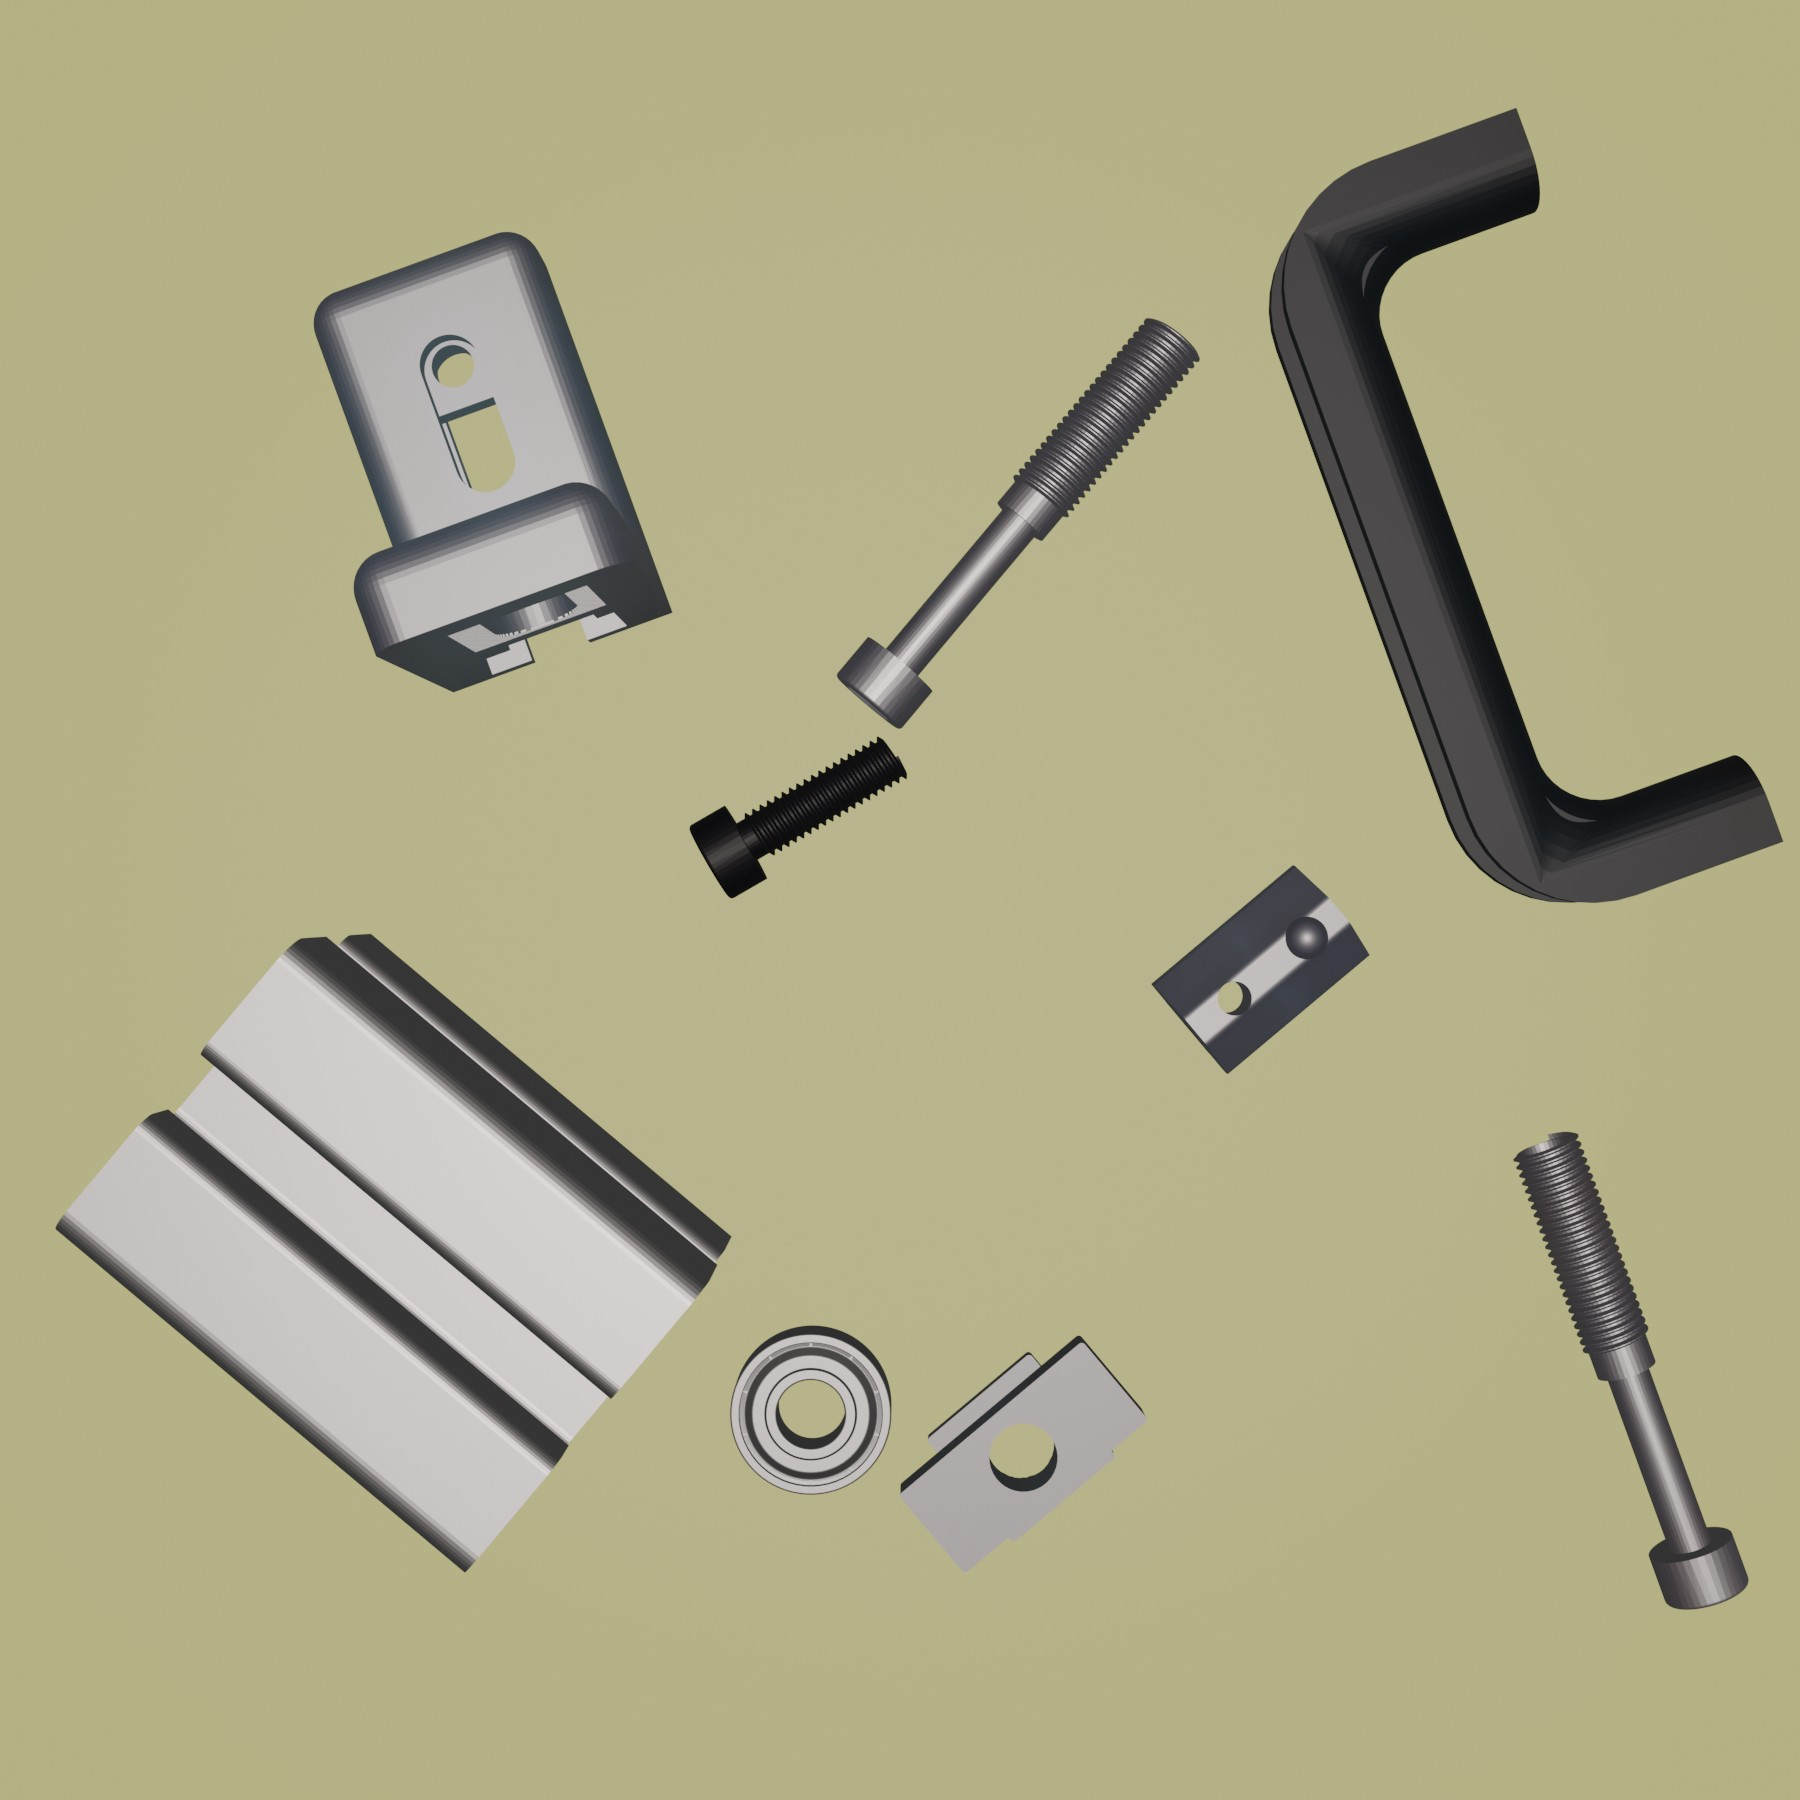Aluminium Extension: (51, 930, 734, 1577)
Ball Bearing: (729, 1322, 893, 1498)
Multiwinkel: (312, 227, 677, 696)
Pull Handle: (1264, 104, 1787, 905)
Shoulder Socket Head Cap Screw: (836, 312, 1203, 732), (1508, 1127, 1751, 1612)
Socket Head Cap Screw: (687, 732, 908, 902)
T Nut Square: (897, 1329, 1147, 1574)
T Spring Nut: (1147, 860, 1370, 1076)
